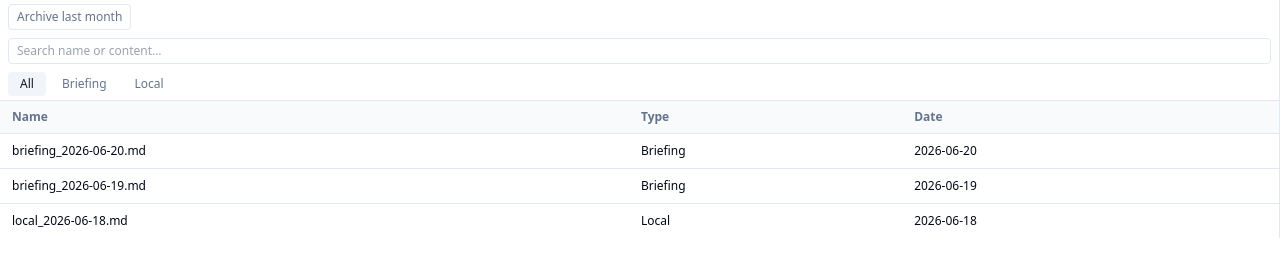
BriefingDashboard › clearing the search returns to tab-only filtering
Type "local" into the search field with test id "briefing-search-input" at [640, 51], box [8,38,1271,64]
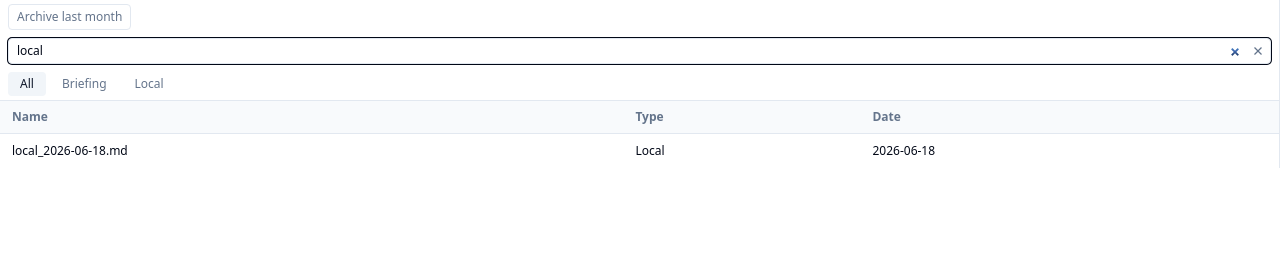
Click the button with test id "briefing-search-clear" at [1258, 51], box [1249,42,1267,60]
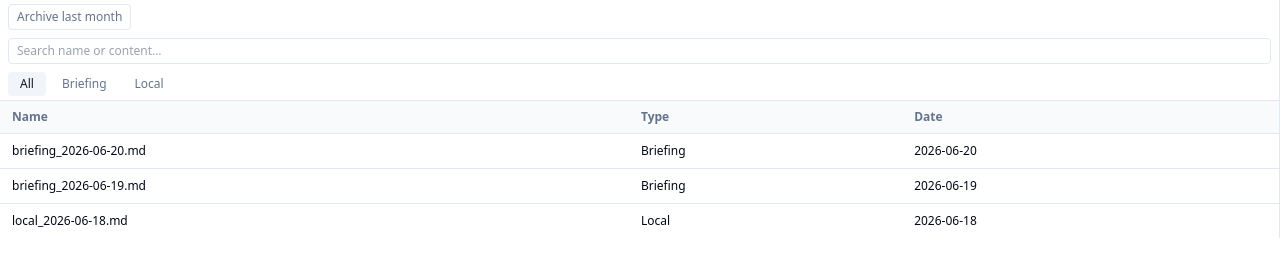
Result: the row with test id "briefing-row-briefing_2026-06-20.md" is shown at [0,134,1279,168]
